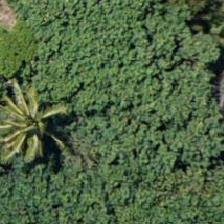coconut_tree: (0, 72, 70, 162)
